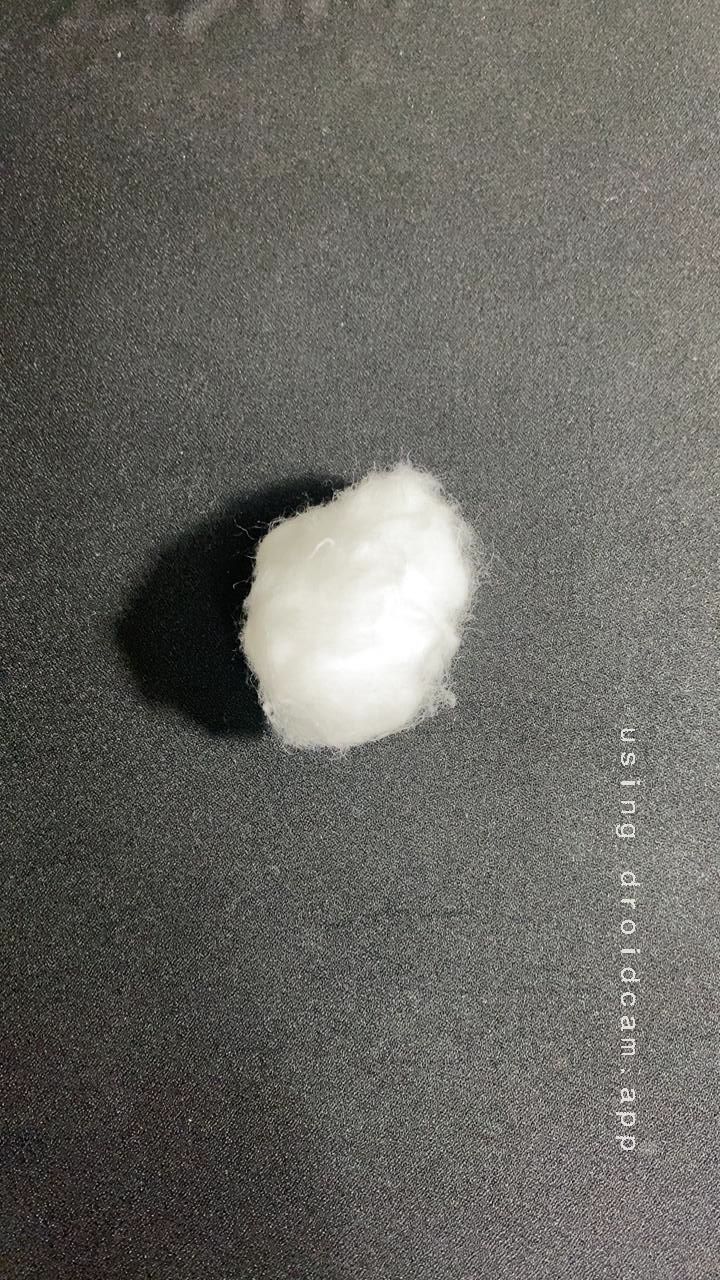cotton: (206, 436, 510, 760)
